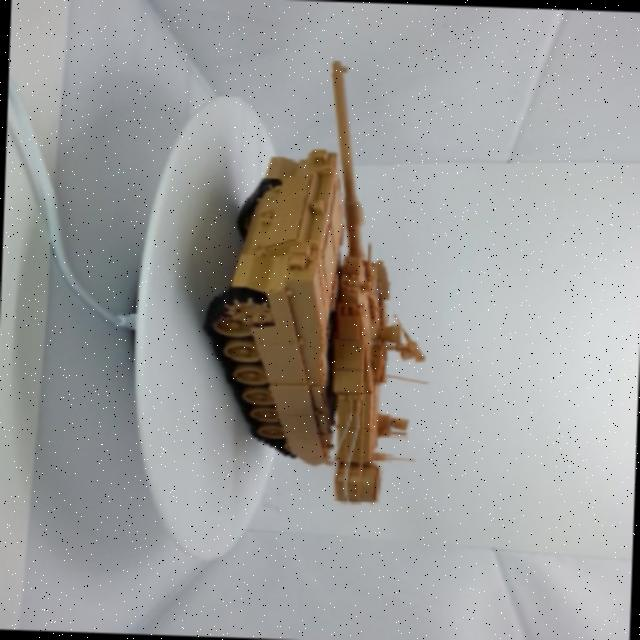korea tank: (188, 37, 452, 521)
